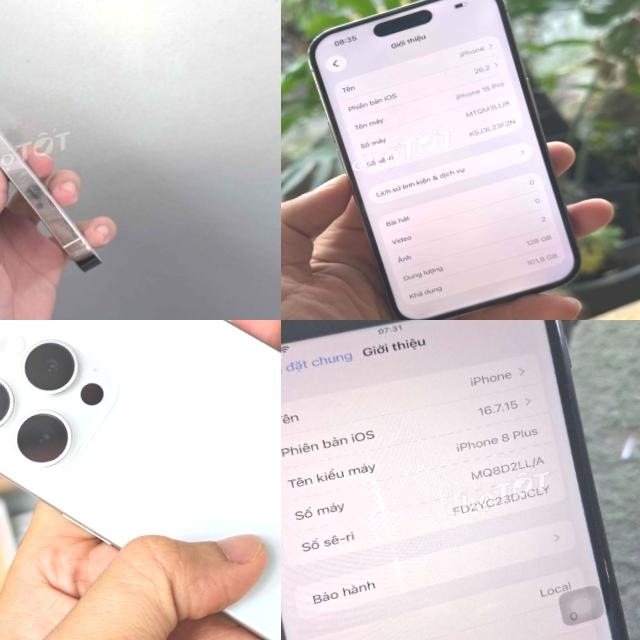gen_14: (0, 0, 138, 315)
gen_15: (281, 0, 615, 320), (0, 320, 281, 640)
gen_7_8: (281, 320, 640, 640)
